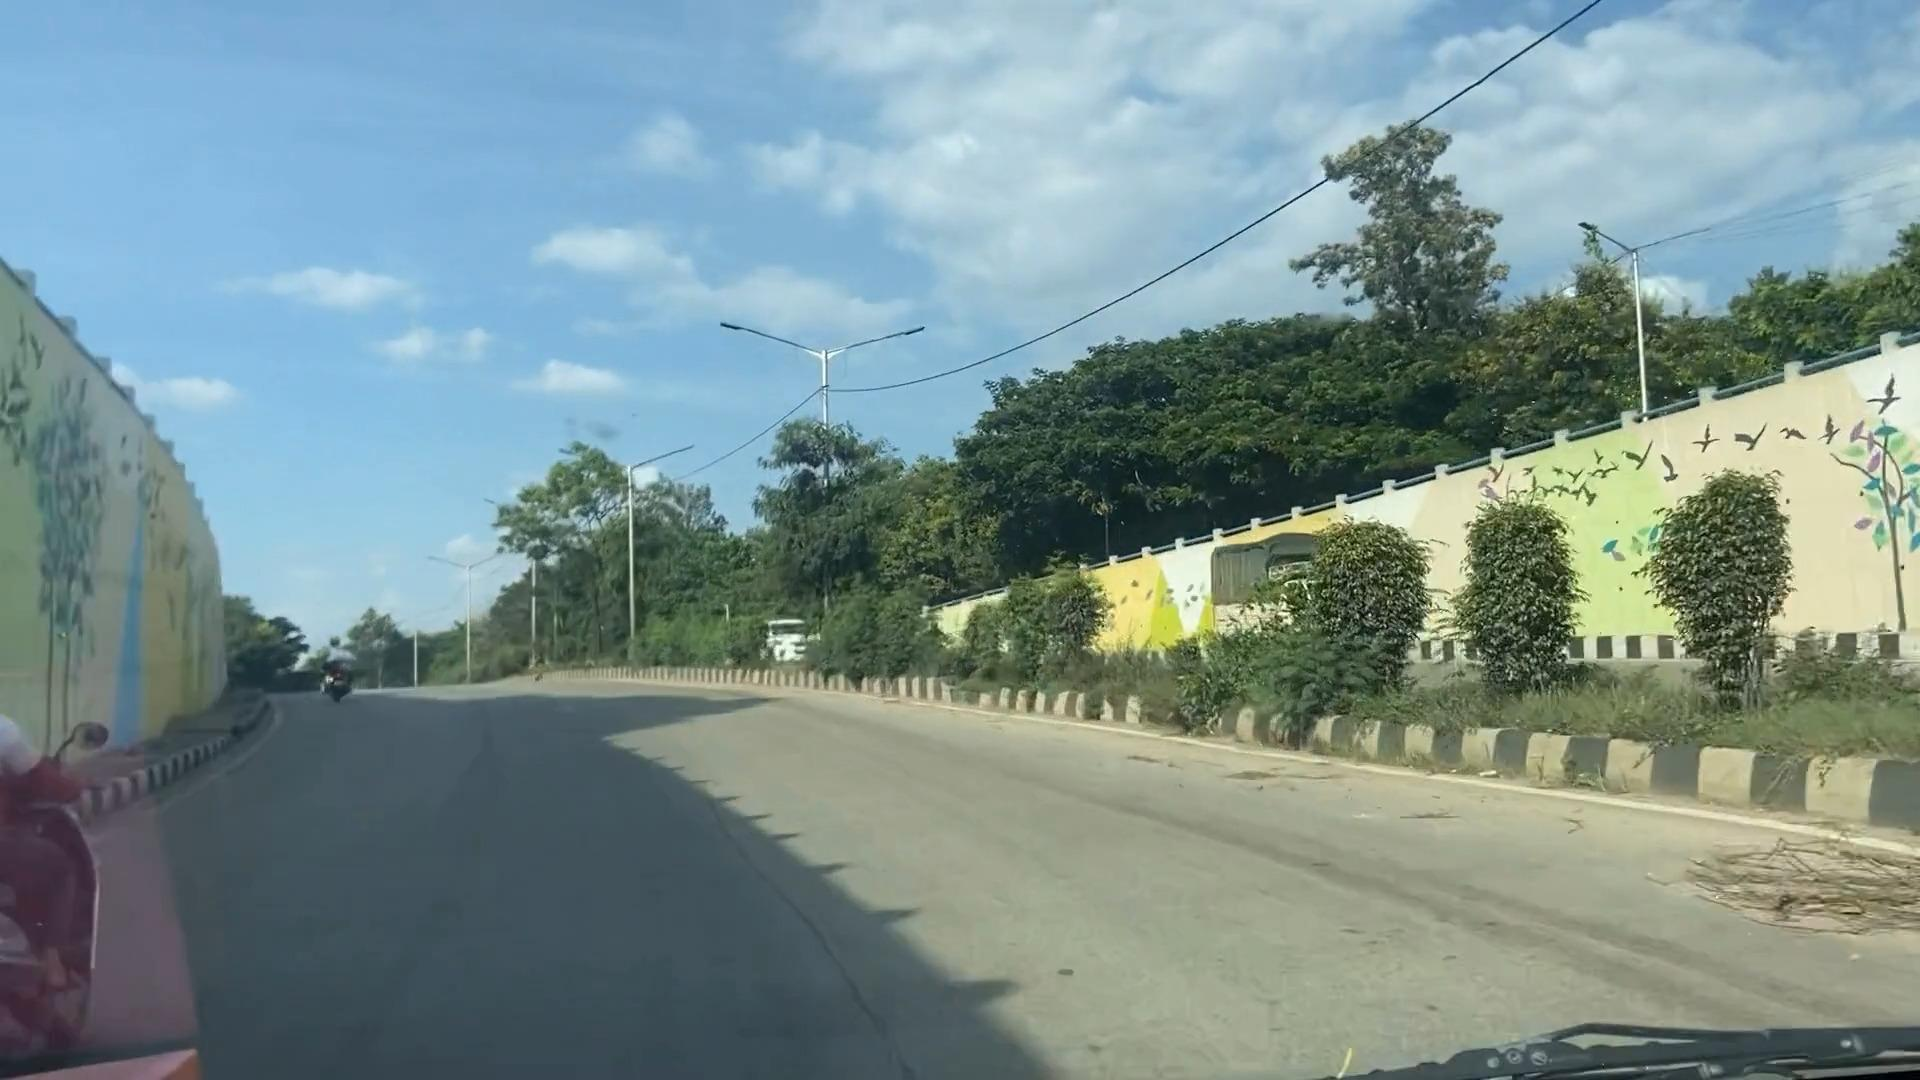RoadDamages: (702, 792, 940, 1080)
